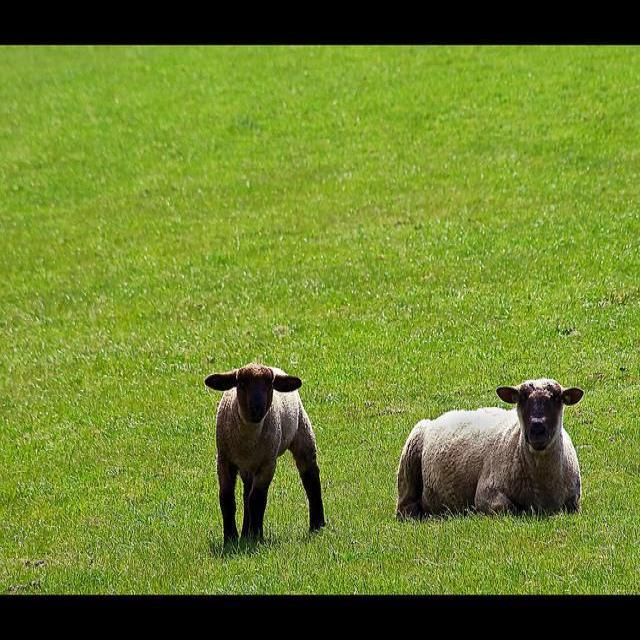Sheep: (395, 379, 587, 521), (206, 362, 325, 548)
